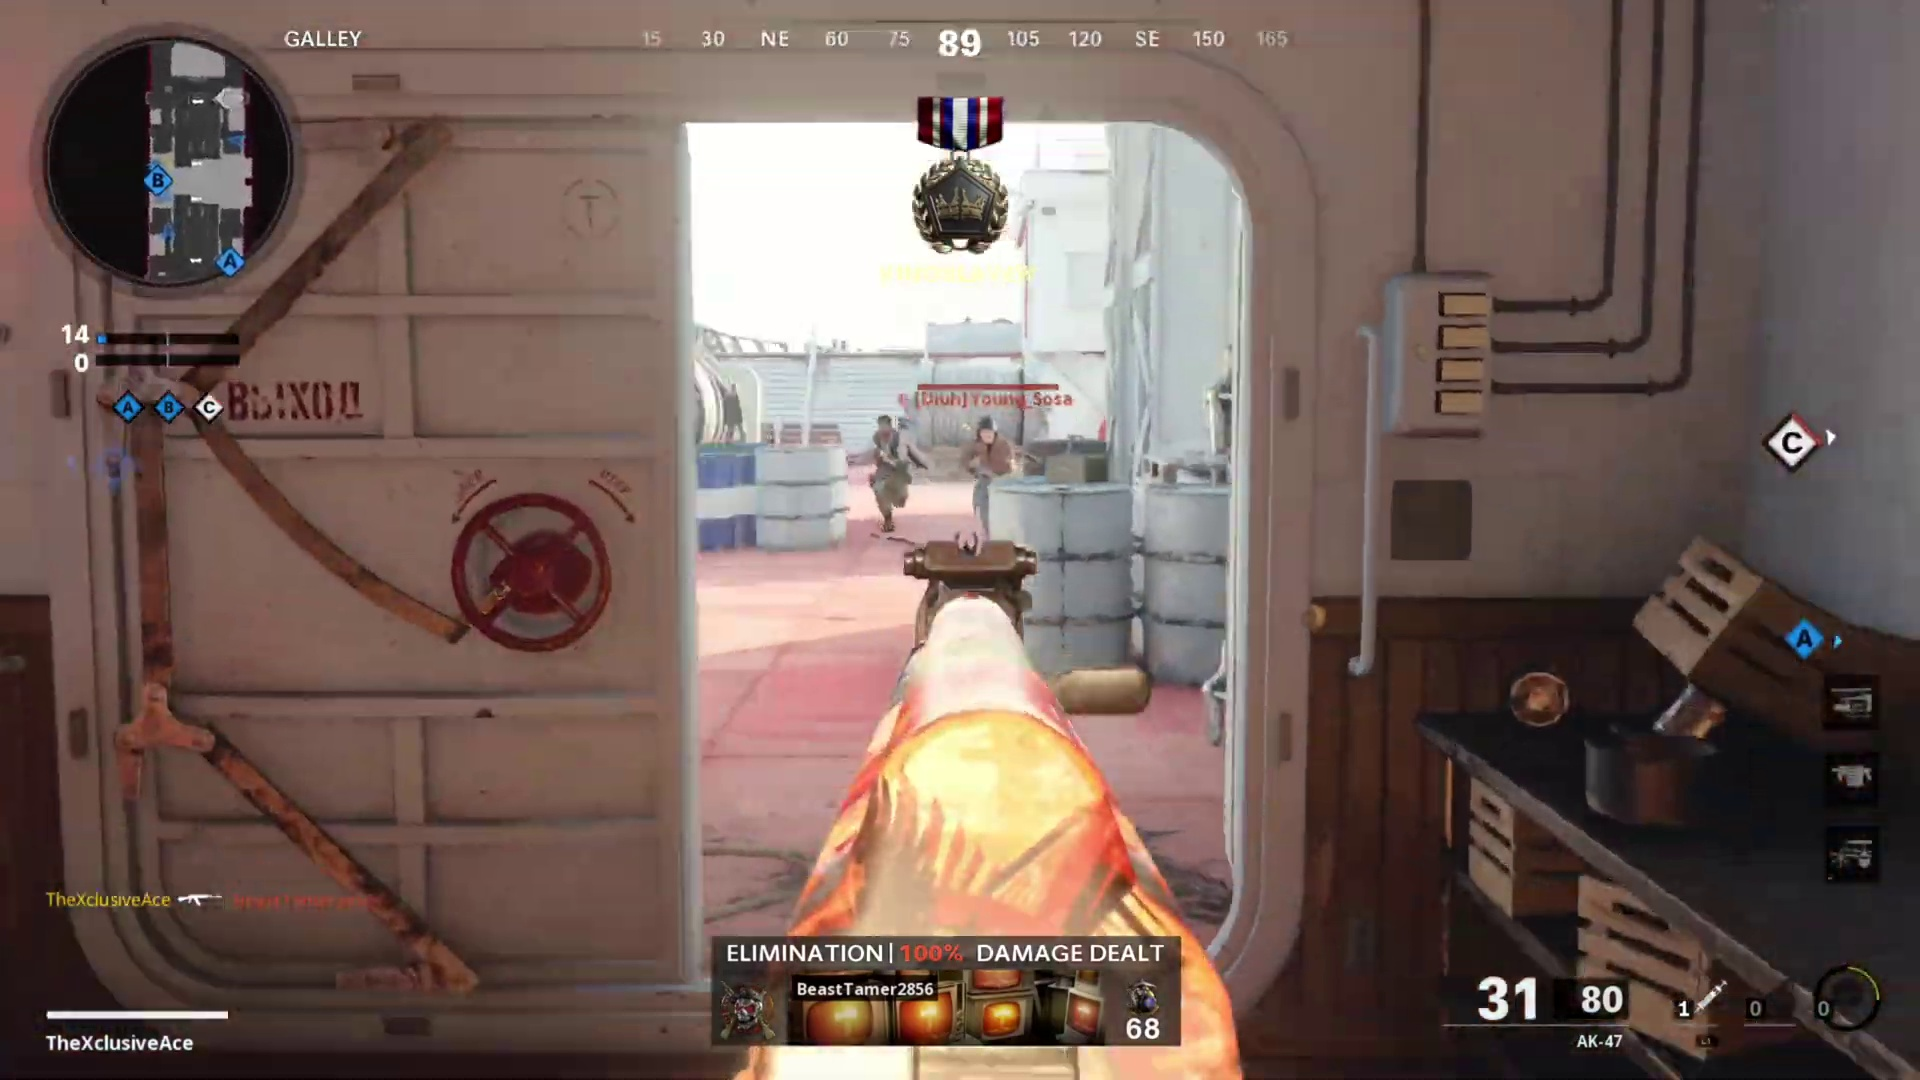head: (972, 415, 1000, 446), (874, 411, 897, 441)
person: (956, 419, 1016, 536), (868, 413, 918, 530)
